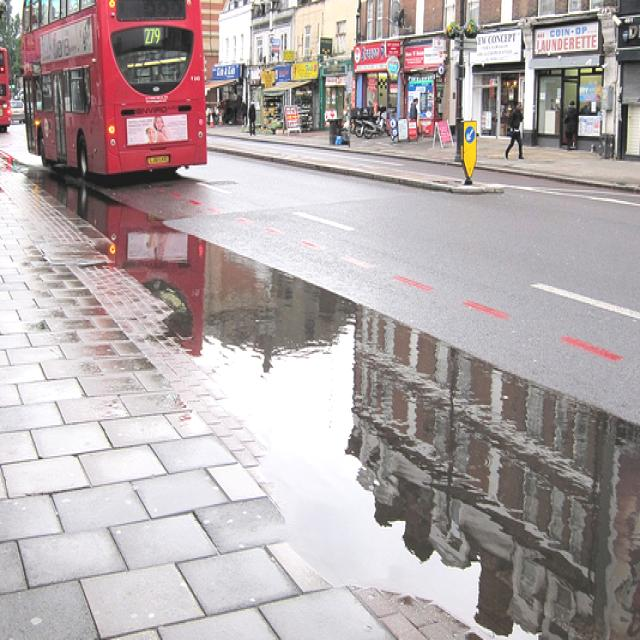Vehicle: (23, 0, 201, 195)
